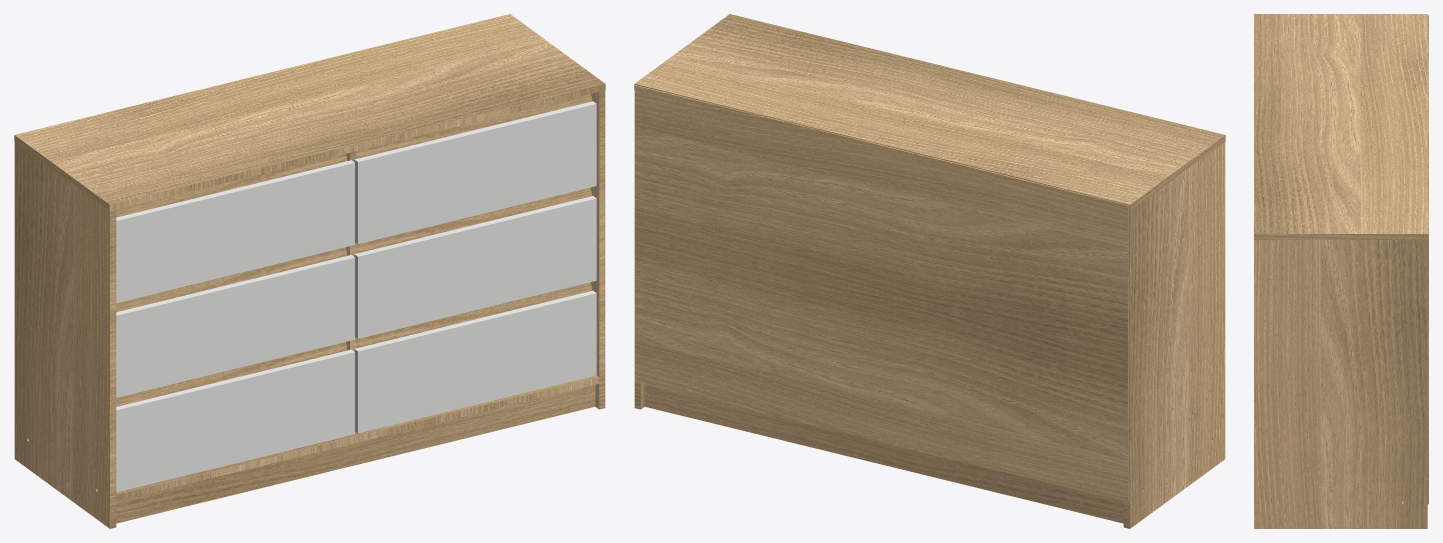
The model's file is A008395_v7_iluminado.glb.
The picture shows the model from 3 angles, left to right: view 1: azimuth 30°, elevation 25°; view 2: azimuth 150°, elevation 25°; view 3: azimuth 270°, elevation 25°; orthographic projection. The views are drawn at different scales.
Visible parts, largest first — view 1: A008395-TAPASXXXTAPA, Simetr적008395-COSTADOSCOST, A008395-FRENTESXCADE002, A008395-FRENTESXCADE001, A008395-FRENTESXCADE, A008395-FRENTESXCAIZ001, A008395-FRENTESXCAIZ, A008395-FRENTESXCAIZ002, A008395-ZOCALOSXZOCA, A008395-PISOSXXXFREN, A008395-COSTADOSCOST, A008395-FAJASXXXFREN001 (+5 smaller); view 2: A008395-FONDOSXXMUEB, A008395-FONDOSXXMUEB001, A008395-TAPASXXXTAPA, Simetr적008395-COSTADOSCOST, A008395-ZOCALOSXZOCA001; view 3: A008395-COSTADOSCOST, A008395-TAPASXXXTAPA, A008395-FONDOSXXMUEB, A008395-FONDOSXXMUEB001.
Boxes of the visible parts, x1,y1,x2,y2 form: A008395-TAPASXXXTAPA: (14,14,605,210); Simetr적008395-COSTADOSCOST: (14,142,116,528); A008395-FRENTESXCADE002: (354,101,596,243); A008395-FRENTESXCADE001: (354,196,596,338); A008395-FRENTESXCADE: (354,290,596,433); A008395-FRENTESXCAIZ001: (116,255,354,397); A008395-FRENTESXCAIZ: (116,349,354,492); A008395-FRENTESXCAIZ002: (116,160,354,302); A008395-ZOCALOSXZOCA: (116,385,595,523); A008395-PISOSXXXFREN: (116,375,599,501); A008395-COSTADOSCOST: (591,90,605,409); A008395-FAJASXXXFREN001: (356,187,592,253); A008395-FONDOSXXMUEB: (634,85,1128,353); A008395-FONDOSXXMUEB001: (634,234,1128,502); A008395-TAPASXXXTAPA: (634,14,1225,210); Simetr적008395-COSTADOSCOST: (1123,142,1225,528); A008395-ZOCALOSXZOCA001: (644,385,1123,523); A008395-COSTADOSCOST: (1254,240,1427,528); A008395-TAPASXXXTAPA: (1254,14,1427,239); A008395-FONDOSXXMUEB: (1427,15,1428,369); A008395-FONDOSXXMUEB001: (1427,369,1428,504).
Bounding box in the file's own units: 1.2 × 0.75 × 0.403.
Materials: 2 (1 with a texture image).
